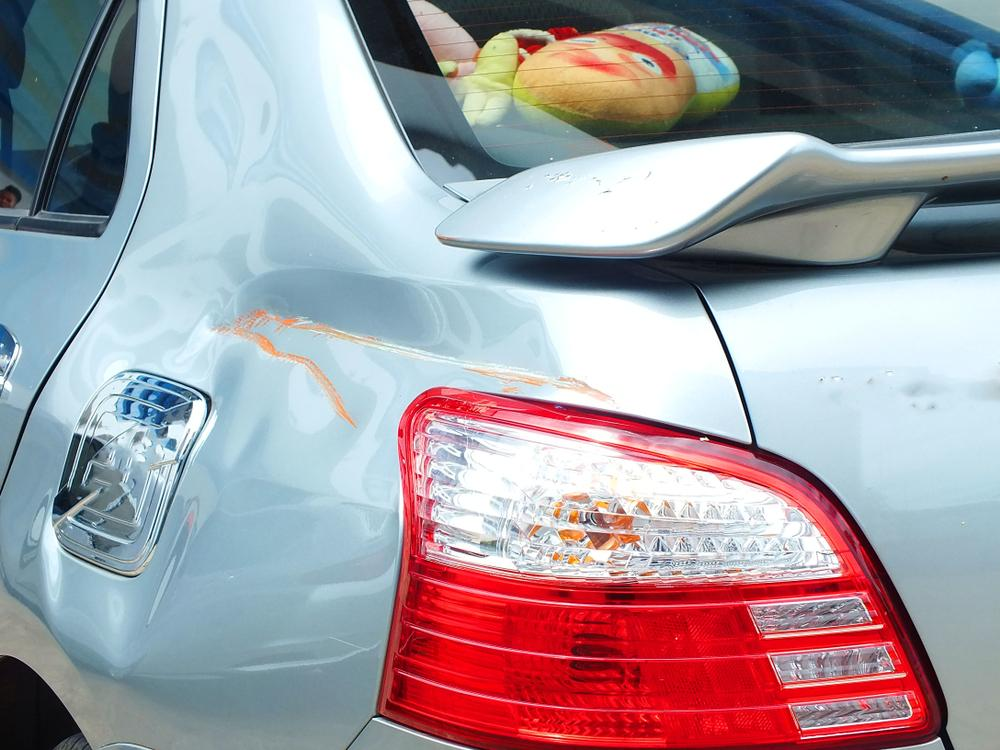dent: (60, 19, 570, 661)
